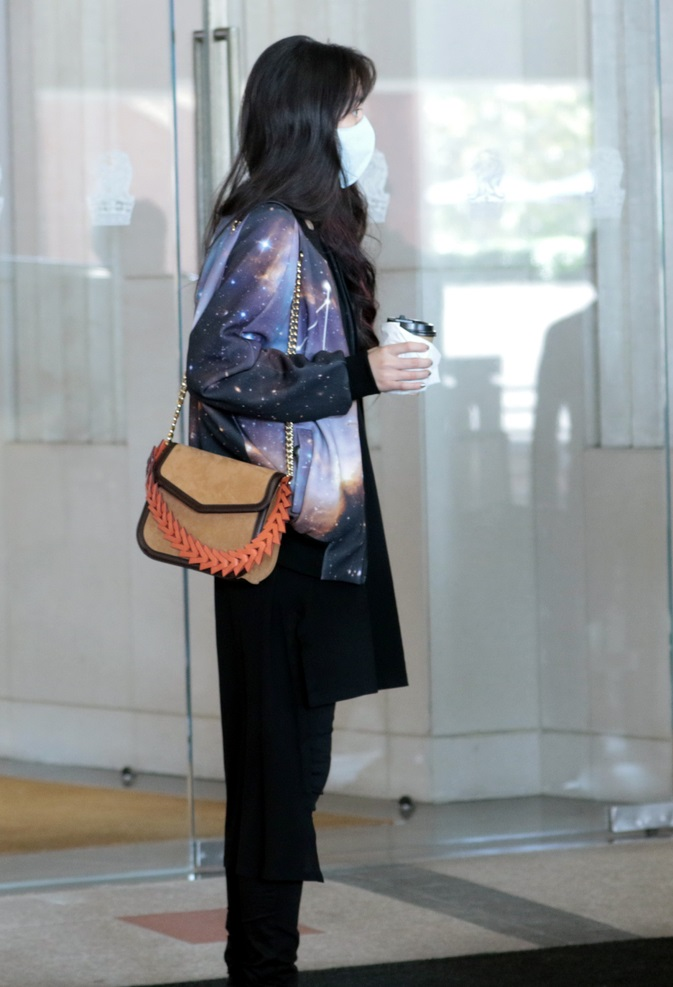face_mask: (331, 75, 386, 191)
